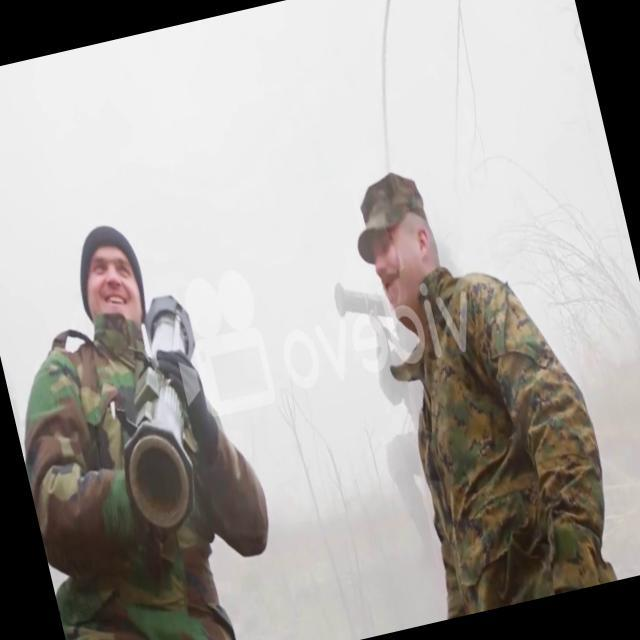rocket: (88, 290, 235, 528)
